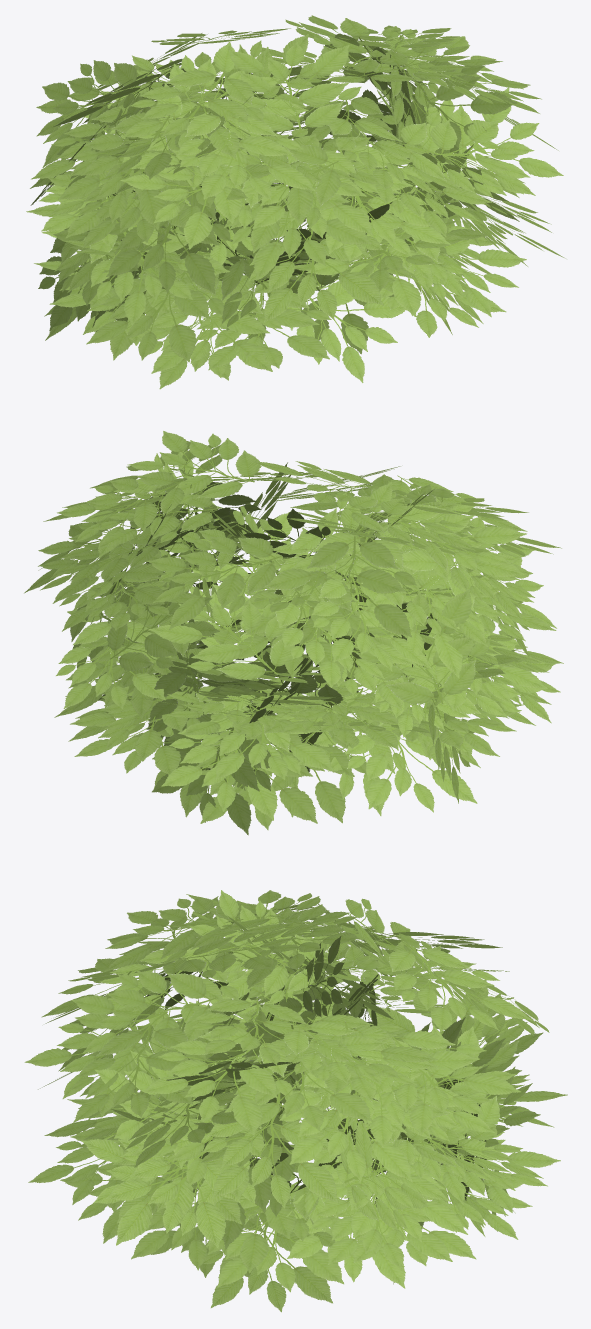
The model's file is shrub.glb.
3 views of the same model, one above another, from view 1: azimuth 30°, elevation 25°; view 2: azimuth 150°, elevation 25°; view 3: azimuth 270°, elevation 25° (orthographic). The views are drawn at different scales.
Visible parts, largest first — view 1: leaves; view 2: leaves; view 3: leaves.
Boxes of the visible parts, x1,y1,x2,y2 form: leaves: [26, 15, 565, 389]; leaves: [24, 431, 563, 835]; leaves: [24, 890, 567, 1312].
Size of the model in its own units: 4.17 by 2.37 by 3.88.
1 material, 1 textured.
